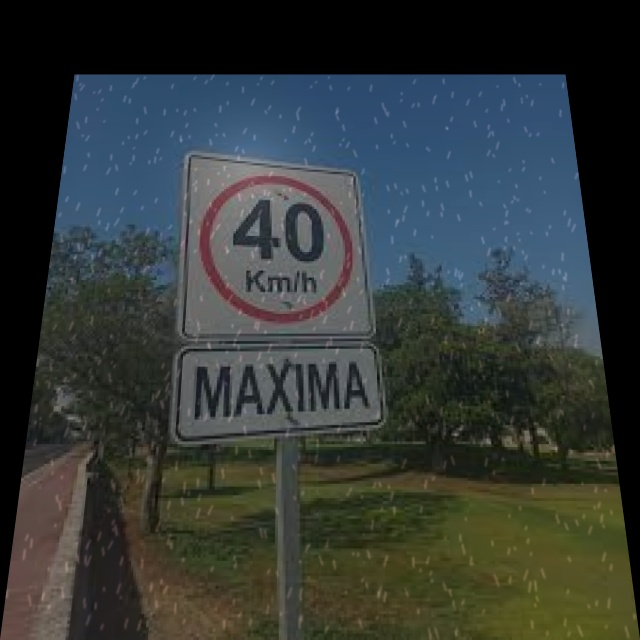Speed_Limit_40: (188, 163, 368, 333)
